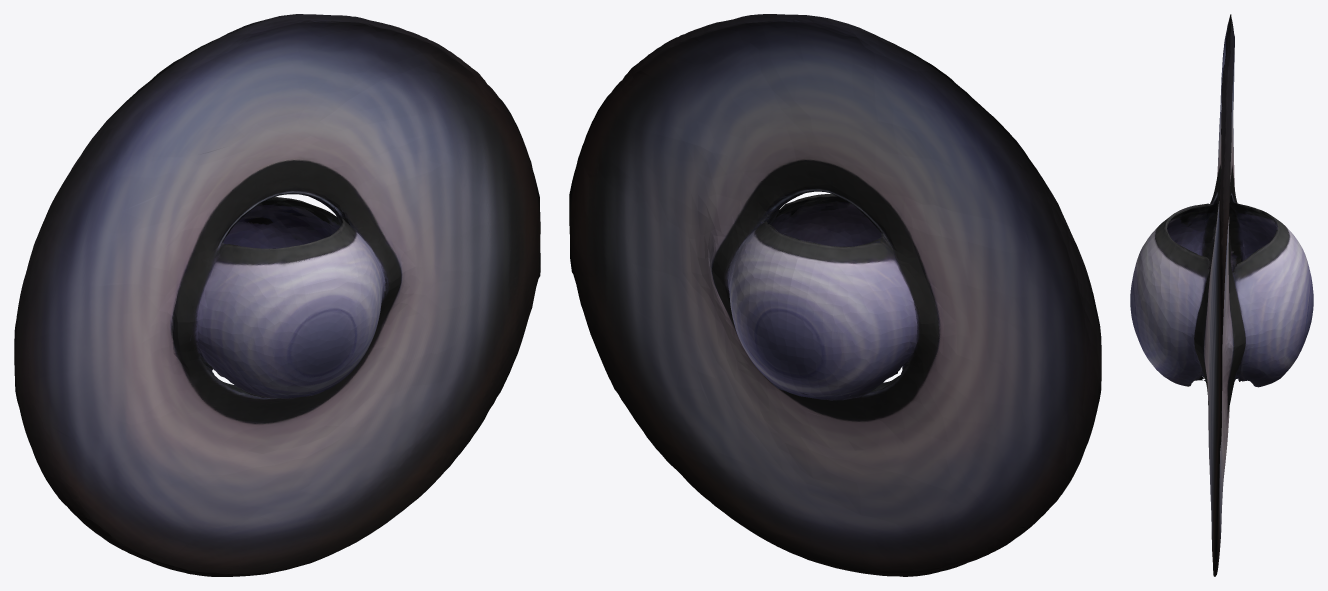
File: BlackholeSkeleton.glb
3 renders of one model, left to right at view 1: azimuth 30°, elevation 25°; view 2: azimuth 150°, elevation 25°; view 3: azimuth 270°, elevation 25°, orthographic. The views are drawn at different scales.
Visible parts, largest first — view 1: world; view 2: world; view 3: world.
Boxes of the visible parts, x1,y1,x2,y2 form: world: (14,14,540,576); world: (569,14,1101,576); world: (1130,14,1313,576).
Bounding box in the file's own units: 1 × 0.9962 × 0.3246.
Materials: 1 (1 with a texture image).
